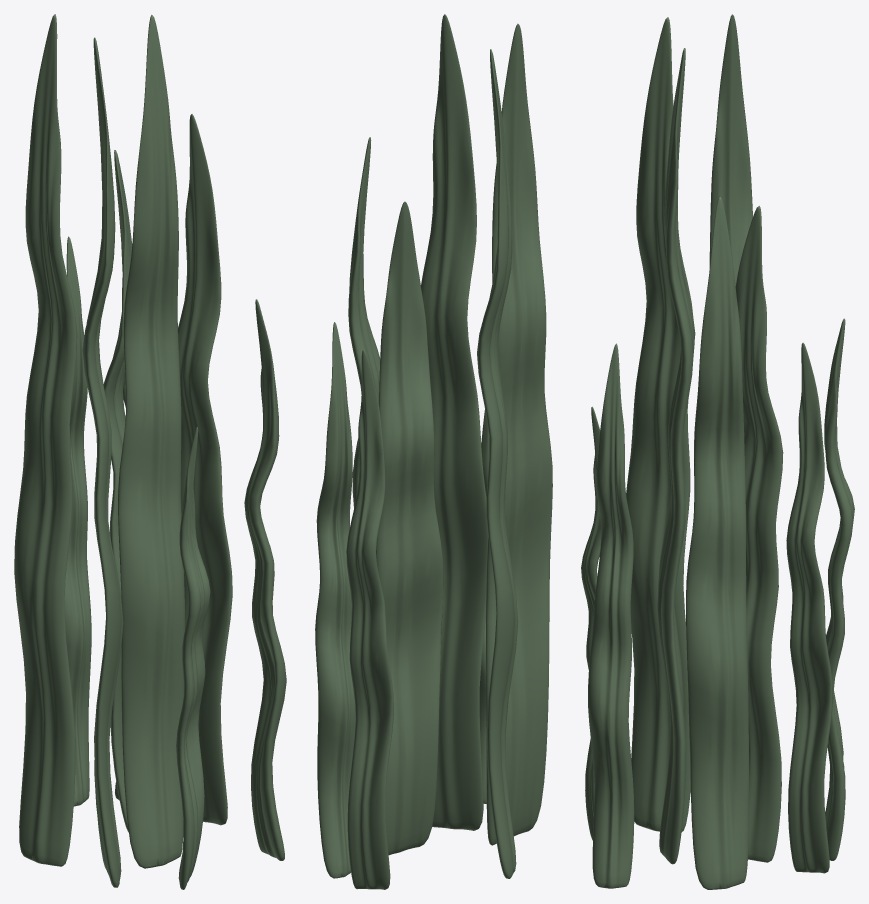
Rendered from Seaweed Medium.fbx.
3 renders of one model, left to right at view 1: azimuth 30°, elevation 25°; view 2: azimuth 150°, elevation 25°; view 3: azimuth 270°, elevation 25°, orthographic. The views are drawn at different scales.
Visible parts, largest first — view 1: pCube1, pCube3, pCube4, pCube9, pCube6, pCube5, pCube7, pCube2; view 2: pCube1, pCube9, pCube2, pCube5, pCube8, pCube3, pCube4, pCube7; view 3: pCube4, pCube9, pCube2, pCube6, pCube8, pCube1, pCube5, pCube3, pCube7.
Boxes of the visible parts, <box> form: pCube1: <box>118,15,184,868</box>; pCube3: <box>14,14,77,866</box>; pCube4: <box>178,114,232,825</box>; pCube9: <box>82,37,123,887</box>; pCube6: <box>244,299,286,860</box>; pCube5: <box>64,236,91,806</box>; pCube7: <box>176,427,210,889</box>; pCube2: <box>103,150,132,832</box>; pCube1: <box>421,14,488,830</box>; pCube9: <box>486,23,552,845</box>; pCube2: <box>376,201,443,855</box>; pCube5: <box>346,349,393,889</box>; pCube8: <box>315,322,355,878</box>; pCube3: <box>477,49,518,878</box>; pCube4: <box>348,137,380,508</box>; pCube7: <box>479,409,489,803</box>; pCube4: <box>686,196,748,889</box>; pCube9: <box>626,17,692,831</box>; pCube2: <box>735,206,783,862</box>; pCube6: <box>588,343,634,888</box>; pCube8: <box>786,342,833,873</box>; pCube1: <box>657,48,695,864</box>; pCube5: <box>824,318,854,860</box>; pCube3: <box>709,14,752,285</box>; pCube7: <box>581,406,601,840</box>.
Bounding box in the file's own units: 4.67 × 19.45 × 5.98.
